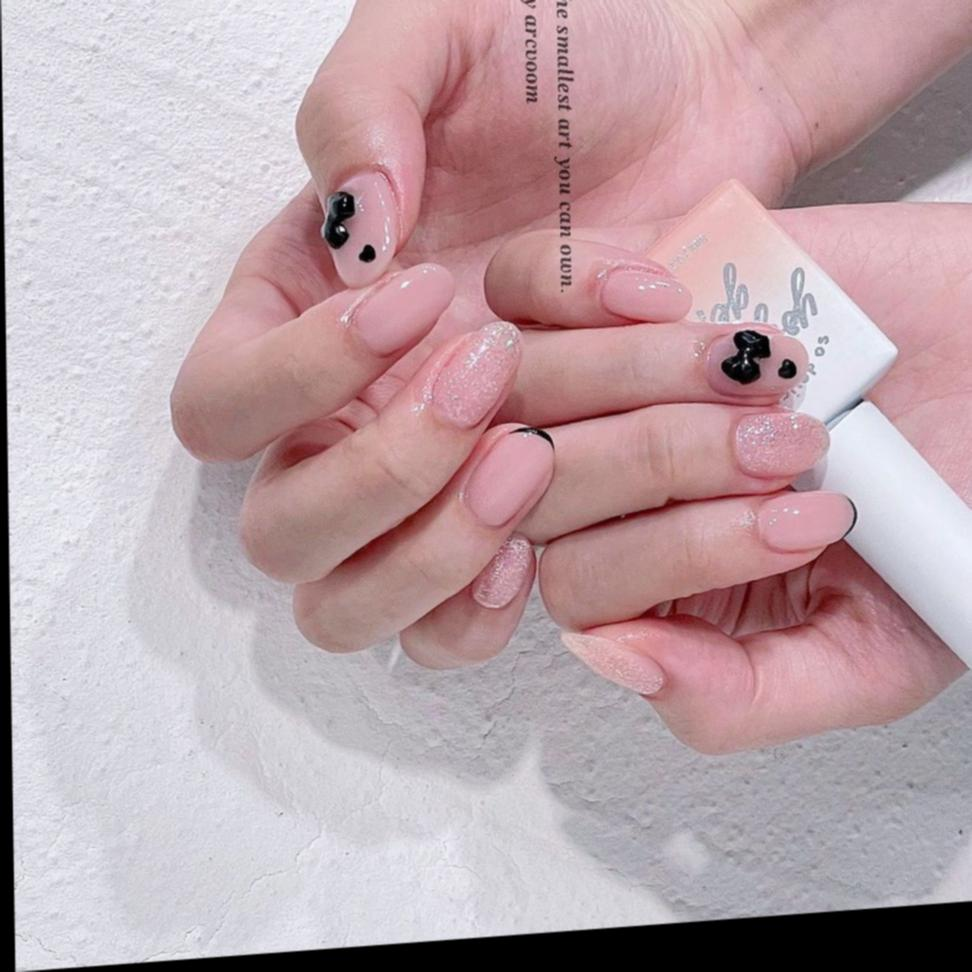nail: (341, 259, 457, 360), (427, 318, 525, 432), (319, 163, 404, 290), (460, 421, 558, 530), (558, 621, 666, 701), (704, 322, 810, 401), (732, 406, 831, 480), (753, 486, 857, 556), (595, 255, 693, 327), (469, 532, 536, 611)
